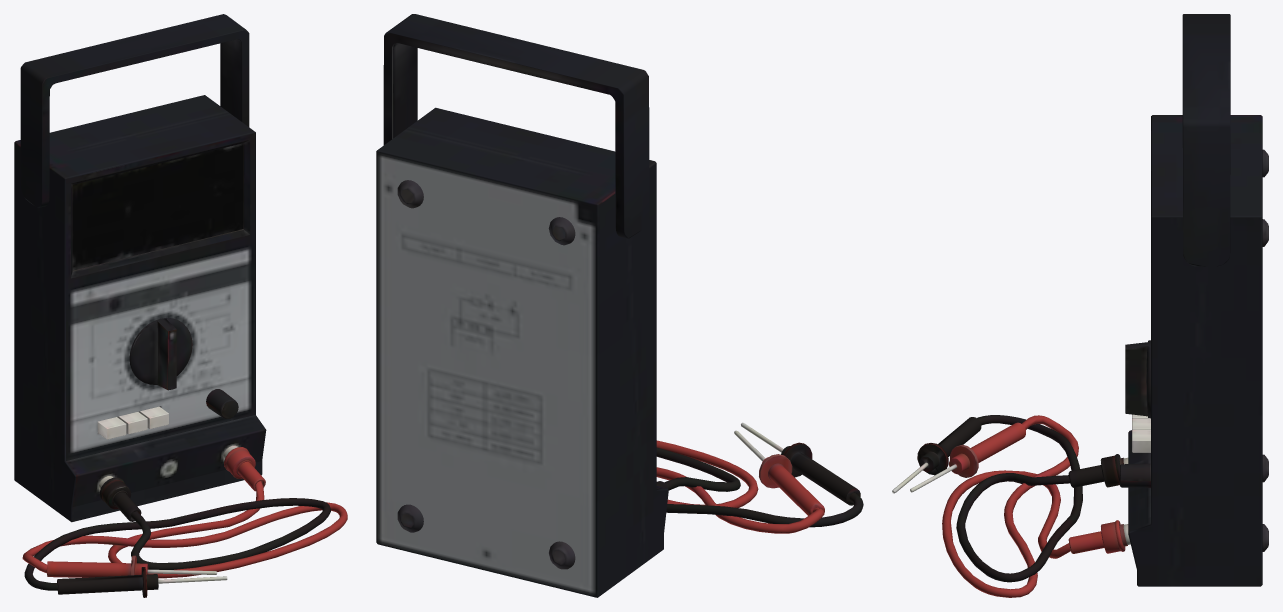
File: retro_multimeter.glb
The picture shows the model from 3 angles, left to right: view 1: azimuth 30°, elevation 25°; view 2: azimuth 150°, elevation 25°; view 3: azimuth 270°, elevation 25°; orthographic projection. The views are drawn at different scales.
Visible parts, largest first — view 1: retro_multimeter_LOD0; view 2: retro_multimeter_LOD0; view 3: retro_multimeter_LOD0.
Boxes of the visible parts, bbox=[...] form: retro_multimeter_LOD0: bbox=[14, 14, 347, 597]; retro_multimeter_LOD0: bbox=[376, 14, 863, 597]; retro_multimeter_LOD0: bbox=[892, 14, 1268, 597].
Size of the model in its own units: 0.216 by 0.2786 by 0.2026.
2 materials, 2 textured.
